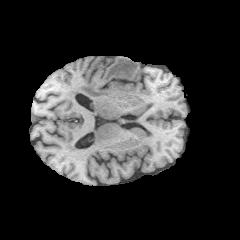glioma: (73, 56, 144, 97)
